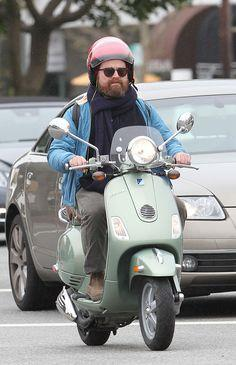helmet: (86, 35, 135, 99)
